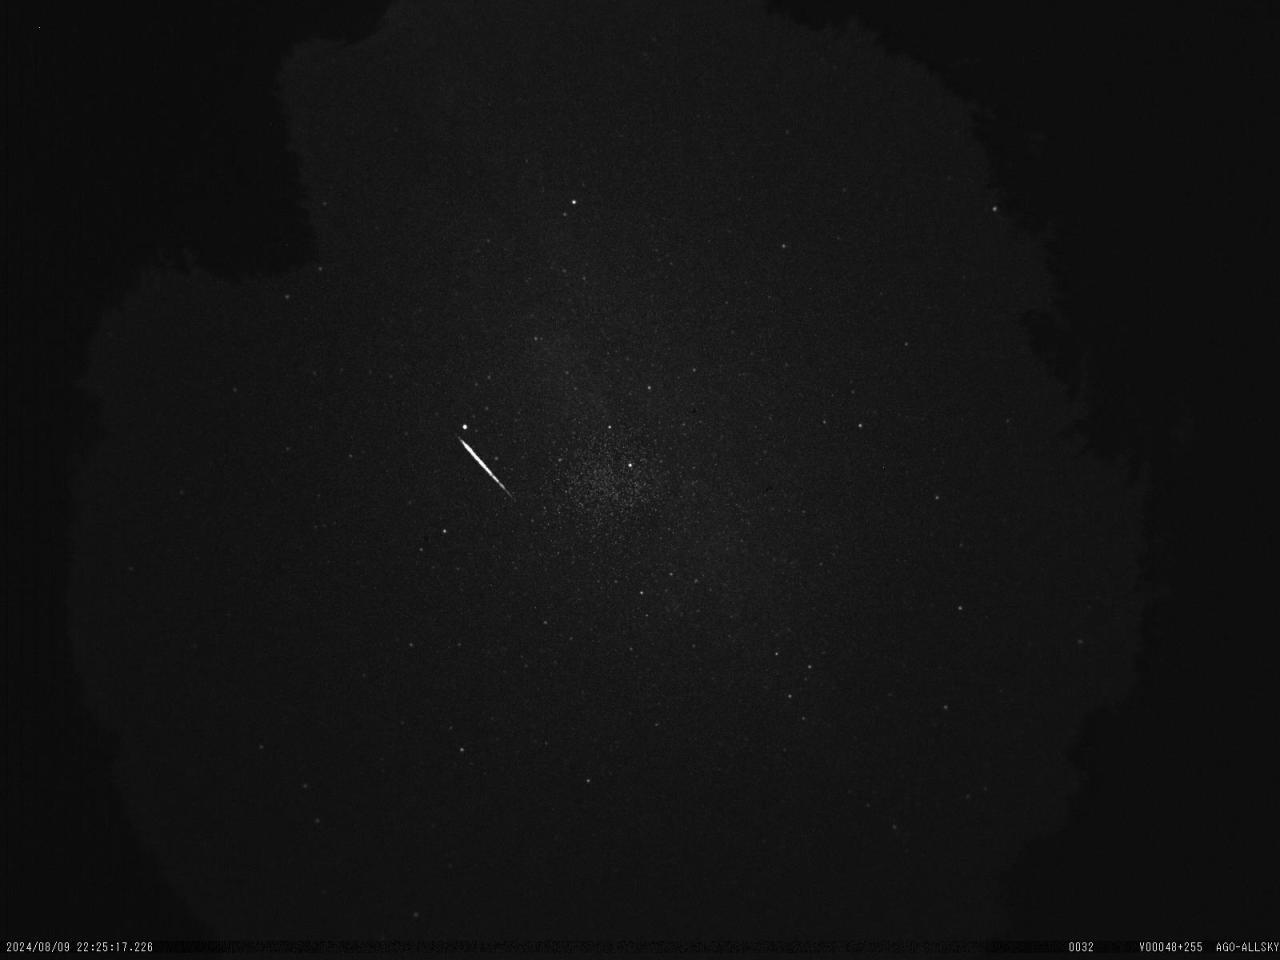Meteor: (454, 434, 514, 502)
